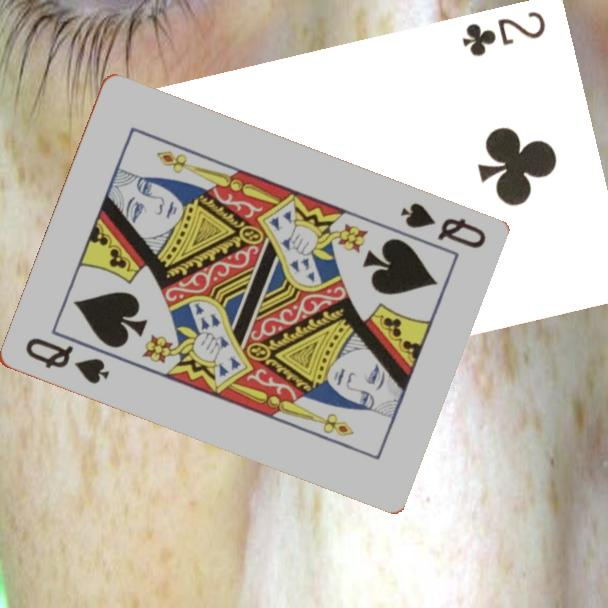c02: (458, 8, 548, 60)
s12: (396, 199, 489, 252), (21, 334, 112, 388)
